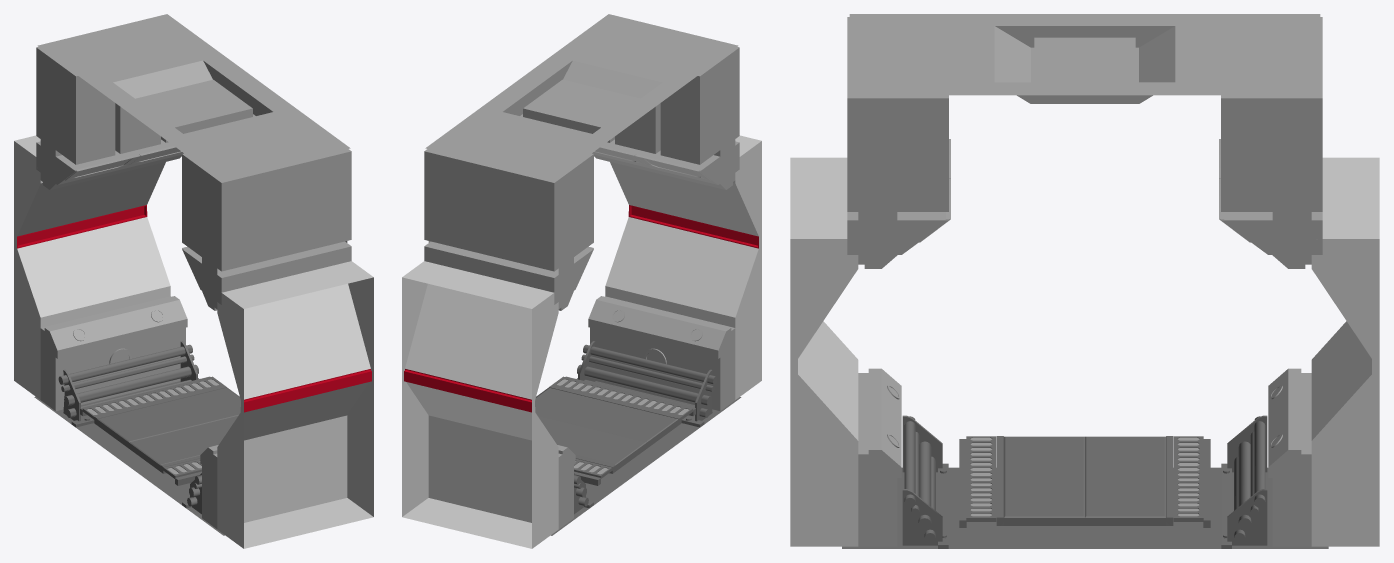
The model's file is Coridoor_chunk_1_Half_MayaRemodel_NoUVs.fbx.
3 views of the same model, side by side, from view 1: azimuth 30°, elevation 25°; view 2: azimuth 150°, elevation 25°; view 3: azimuth 270°, elevation 25° (orthographic). The views are drawn at different scales.
Visible parts, largest first — view 1: polySurface123, polySurface27, polySurface124, polySurface70, polySurface72, polySurface119, polySurface28, polySurface48, polySurface33, polySurface5, polySurface120, polySurface3 (+5 smaller); view 2: polySurface124, polySurface27, polySurface123, polySurface72, polySurface70, polySurface120, polySurface48, polySurface28, polySurface33, polySurface2, polySurface119, polySurface7 (+5 smaller); view 3: polySurface27, polySurface124, polySurface123, polySurface70, polySurface72, polySurface33, polySurface28, polySurface48, polySurface119, polySurface120, polySurface126, polySurface9 (+17 smaller).
Part boxes in pixels (x1,y1,x2,y2): polySurface123: (217, 261, 373, 548); polySurface27: (37, 14, 350, 179); polySurface124: (14, 135, 170, 399); polySurface70: (182, 149, 351, 304); polySurface72: (36, 47, 183, 184); polySurface119: (40, 296, 187, 410); polySurface28: (97, 387, 240, 448); polySurface48: (129, 416, 237, 471); polySurface33: (34, 381, 224, 535); polySurface5: (64, 364, 198, 405); polySurface120: (200, 445, 218, 528); polySurface3: (58, 344, 192, 384); polySurface124: (402, 261, 558, 548); polySurface27: (425, 14, 738, 179); polySurface123: (605, 135, 761, 399); polySurface72: (424, 149, 593, 304); polySurface70: (592, 47, 739, 184); polySurface120: (588, 296, 735, 410); polySurface48: (535, 387, 678, 448); polySurface28: (538, 416, 646, 471); polySurface33: (551, 381, 741, 535); polySurface2: (577, 364, 711, 405); polySurface119: (557, 445, 575, 528); polySurface7: (583, 344, 717, 384); polySurface27: (849, 14, 1320, 103); polySurface124: (1311, 157, 1379, 546); polySurface123: (790, 157, 858, 546); polySurface70: (847, 17, 948, 254); polySurface72: (1221, 17, 1322, 254); polySurface33: (842, 467, 1328, 548); polySurface28: (1085, 436, 1165, 525); polySurface48: (1004, 436, 1084, 525); polySurface119: (1268, 368, 1311, 546); polySurface120: (858, 368, 901, 546); polySurface126: (858, 172, 1311, 268); polySurface9: (966, 436, 996, 521).
Bounding box in the file's own units: 278 × 720 × 849.
